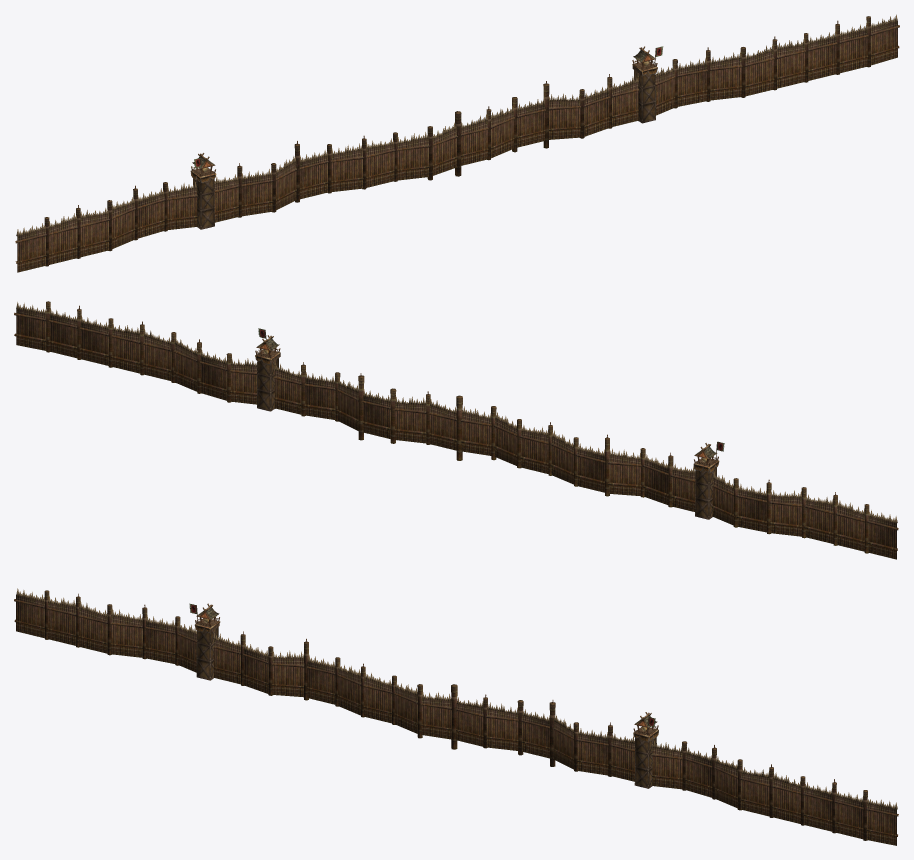
File: cj_thiefvill_right_01.glb
The picture shows the model from 3 angles, top to bottom: view 1: azimuth 30°, elevation 25°; view 2: azimuth 150°, elevation 25°; view 3: azimuth 330°, elevation 25°; orthographic projection.
Parts seen in each view (by area): view 1: cj_thiefvill_right_19, cj_thiefvill_right_20, cj_thiefvill_right_25, cj_thiefvill_right_01; view 2: cj_thiefvill_right_19, cj_thiefvill_right_20, cj_thiefvill_right_25, cj_thiefvill_right_01; view 3: cj_thiefvill_right_19, cj_thiefvill_right_20, cj_thiefvill_right_25, cj_thiefvill_right_01.
Part boxes in pixels (x1,y1,x2,y2): cj_thiefvill_right_19: (15,16,899,272); cj_thiefvill_right_20: (16,14,897,236); cj_thiefvill_right_25: (193,70,655,229); cj_thiefvill_right_01: (77,20,838,208); cj_thiefvill_right_19: (14,301,898,559); cj_thiefvill_right_20: (16,302,897,523); cj_thiefvill_right_25: (257,358,716,519); cj_thiefvill_right_01: (78,305,835,495); cj_thiefvill_right_19: (14,590,898,845); cj_thiefvill_right_20: (16,588,897,809); cj_thiefvill_right_25: (196,627,656,788); cj_thiefvill_right_01: (77,593,835,783).
Size of the model in its own units: 495 by 43.26 by 13.4.
Materials: 8 (8 with a texture image).
